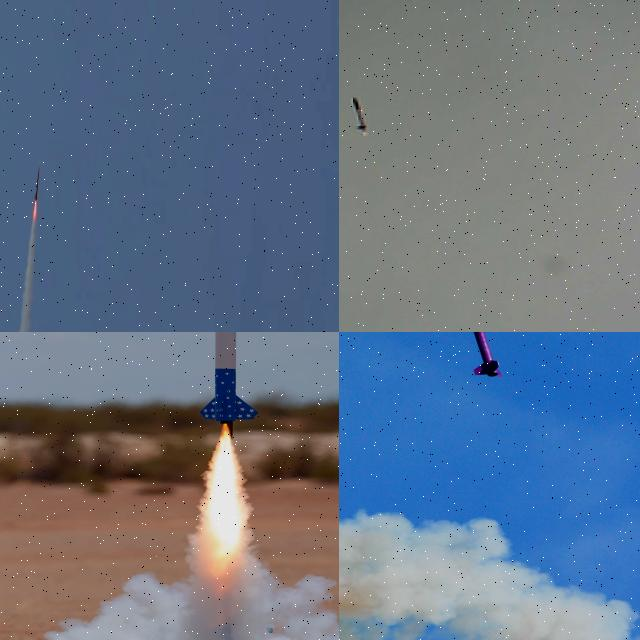Rocket: (198, 332, 260, 423), (459, 332, 504, 378), (352, 96, 368, 132), (34, 165, 40, 202)
